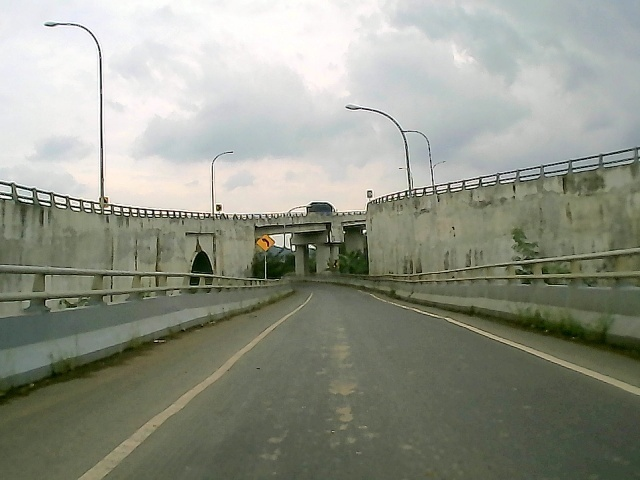Tikungan ke kiri: (256, 233, 276, 252)
